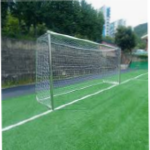goals: (34, 29, 124, 110)
